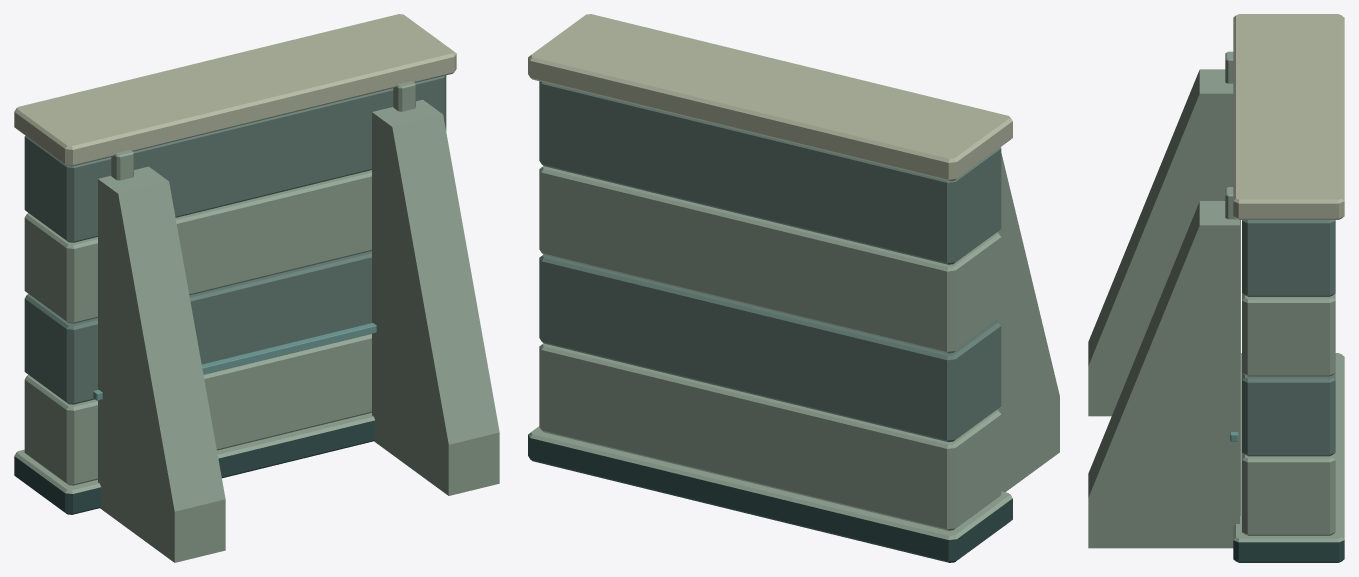
File: wall-buttress.glb
The picture shows the model from 3 angles, left to right: view 1: azimuth 30°, elevation 25°; view 2: azimuth 150°, elevation 25°; view 3: azimuth 270°, elevation 25°; orthographic projection. The views are drawn at different scales.
Parts seen in each view (by area): view 1: wall-buttress__body; view 2: wall-buttress__body; view 3: wall-buttress__body.
Boxes of the visible parts, left/top/right/bottom form: wall-buttress__body: left=14, top=14, right=499, bottom=562; wall-buttress__body: left=528, top=14, right=1059, bottom=562; wall-buttress__body: left=1088, top=14, right=1344, bottom=562.
Size of the model in its own units: 2 by 1.8 by 1.15.
